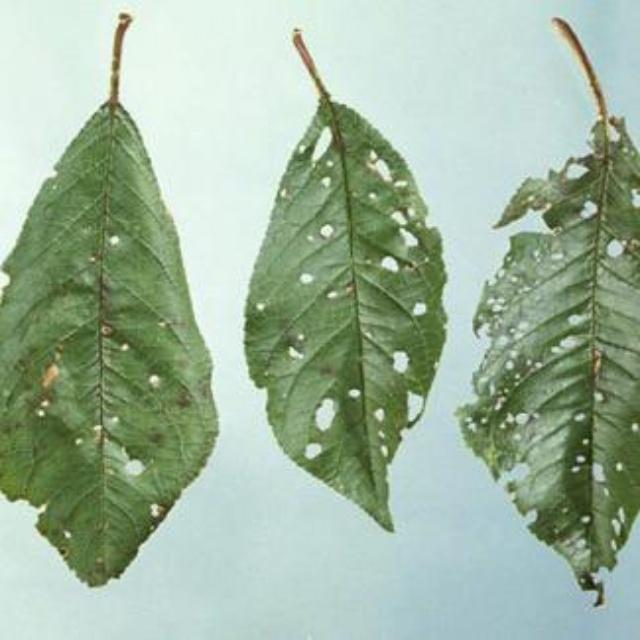shot_hole: (242, 71, 472, 601), (1, 94, 230, 624), (471, 91, 640, 621)
